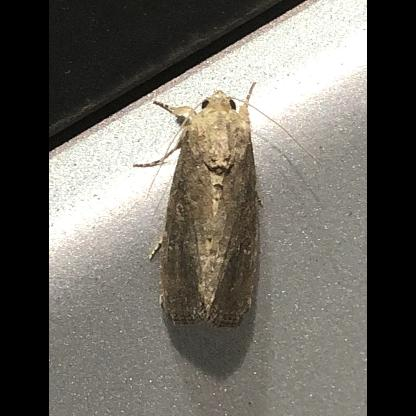Fall Armyworm Moth: (131, 79, 326, 331)
